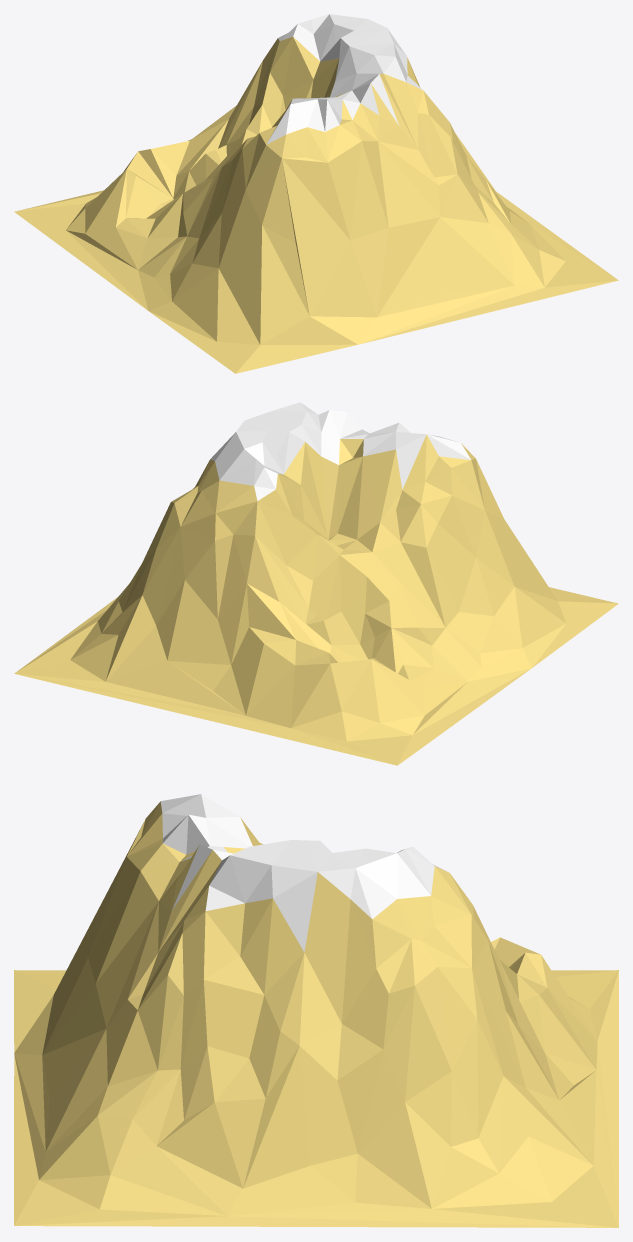
3 renders of one model, top to bottom at view 1: azimuth 30°, elevation 25°; view 2: azimuth 150°, elevation 25°; view 3: azimuth 270°, elevation 25°, orthographic. The views are drawn at different scales.
Visible parts, largest first — view 1: Landscape; view 2: Landscape; view 3: Landscape.
Part boxes in pixels (x1,y1,x2,y2): Landscape: (14, 14, 618, 373); Landscape: (14, 402, 618, 765); Landscape: (14, 794, 618, 1227).
Size of the model in its own units: 2 by 1.01 by 2.
